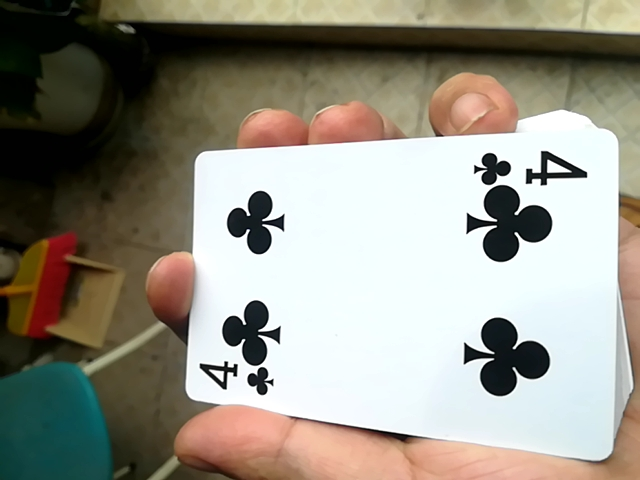mh 4: (178, 117, 617, 457)
